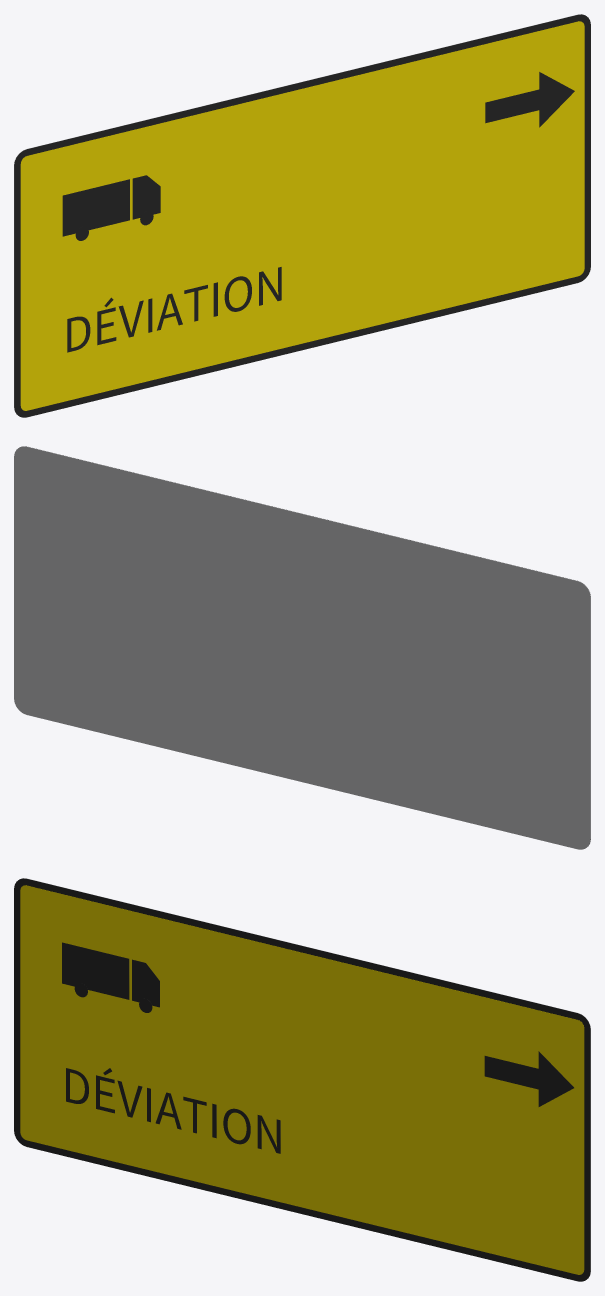
The picture shows the model from 3 angles, top to bottom: view 1: azimuth 30°, elevation 25°; view 2: azimuth 150°, elevation 25°; view 3: azimuth 330°, elevation 25°; orthographic projection.
Visible parts, largest first — view 1: KD22b_fond01, KD22b_cadre00, KD22b_txt07, KD22b_caisse03, KD22b_fl02, KD22b_cabine04, KD22b_dos; view 2: KD22b_dos; view 3: KD22b_fond01, KD22b_cadre00, KD22b_caisse03, KD22b_txt07, KD22b_fl02, KD22b_cabine04, KD22b_dos.
Boxes of the visible parts, box(x1,y1,x2,y2) form: KD22b_fond01: box(20, 21, 584, 410); KD22b_cadre00: box(14, 14, 590, 417); KD22b_txt07: box(67, 267, 281, 352); KD22b_caisse03: box(62, 179, 129, 236); KD22b_fl02: box(485, 72, 574, 127); KD22b_cabine04: box(132, 175, 160, 219); KD22b_dos: box(14, 14, 580, 409); KD22b_dos: box(14, 446, 590, 849); KD22b_fond01: box(20, 885, 584, 1274); KD22b_cadre00: box(14, 878, 590, 1281); KD22b_caisse03: box(62, 942, 129, 999); KD22b_txt07: box(66, 1068, 280, 1153); KD22b_fl02: box(484, 1051, 573, 1106); KD22b_cabine04: box(132, 959, 159, 1007); KD22b_dos: box(24, 878, 590, 1273).
Size of the model in its own units: 1.8 by 0.8 by 0.0045.
